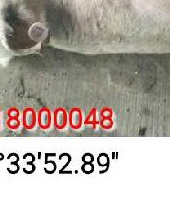text: (21, 9, 58, 53)
